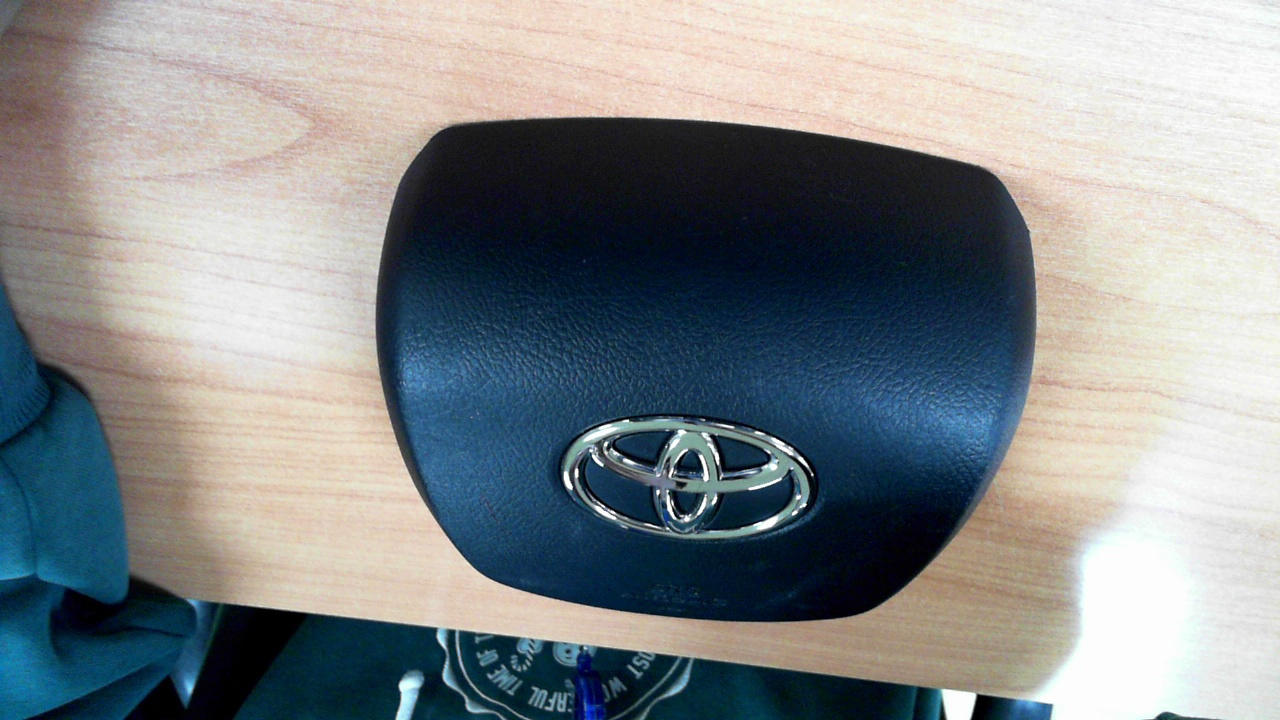Airbag: (373, 117, 1038, 624)
Toyota: (562, 415, 815, 540)
